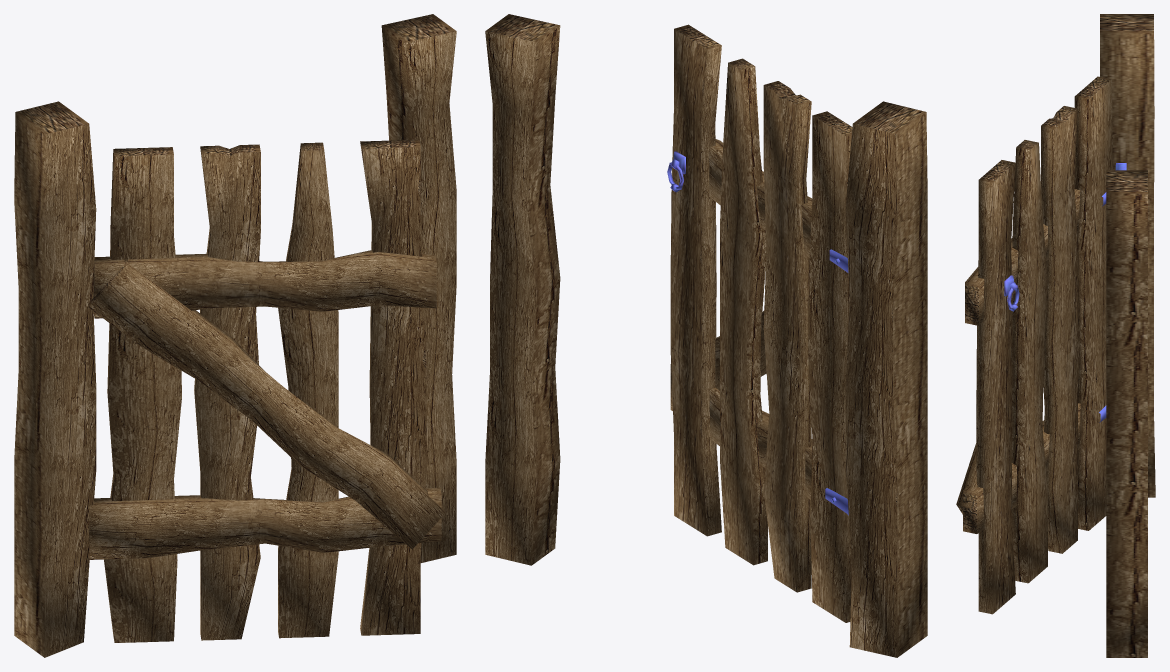
The model's file is fence_door.dae.
3 renders of one model, left to right at view 1: azimuth 30°, elevation 25°; view 2: azimuth 150°, elevation 25°; view 3: azimuth 270°, elevation 25°, orthographic. The views are drawn at different scales.
Parts seen in each view (by area): view 1: meshU3D; view 2: meshU3D; view 3: meshU3D.
Boxes of the visible parts, box(x1,y1,x2,y2) form: meshU3D: box(14, 14, 456, 657); meshU3D: box(485, 14, 927, 657); meshU3D: box(956, 14, 1155, 657).
Size of the model in its own units: 7.15 by 8.63 by 3.35.
